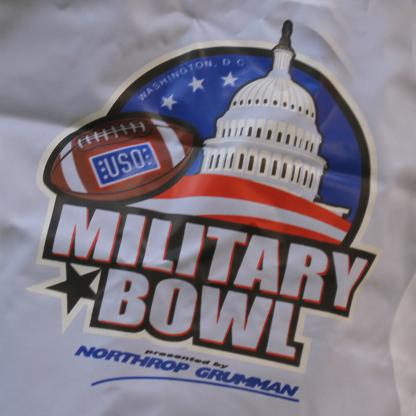Ball: (41, 113, 200, 202)
